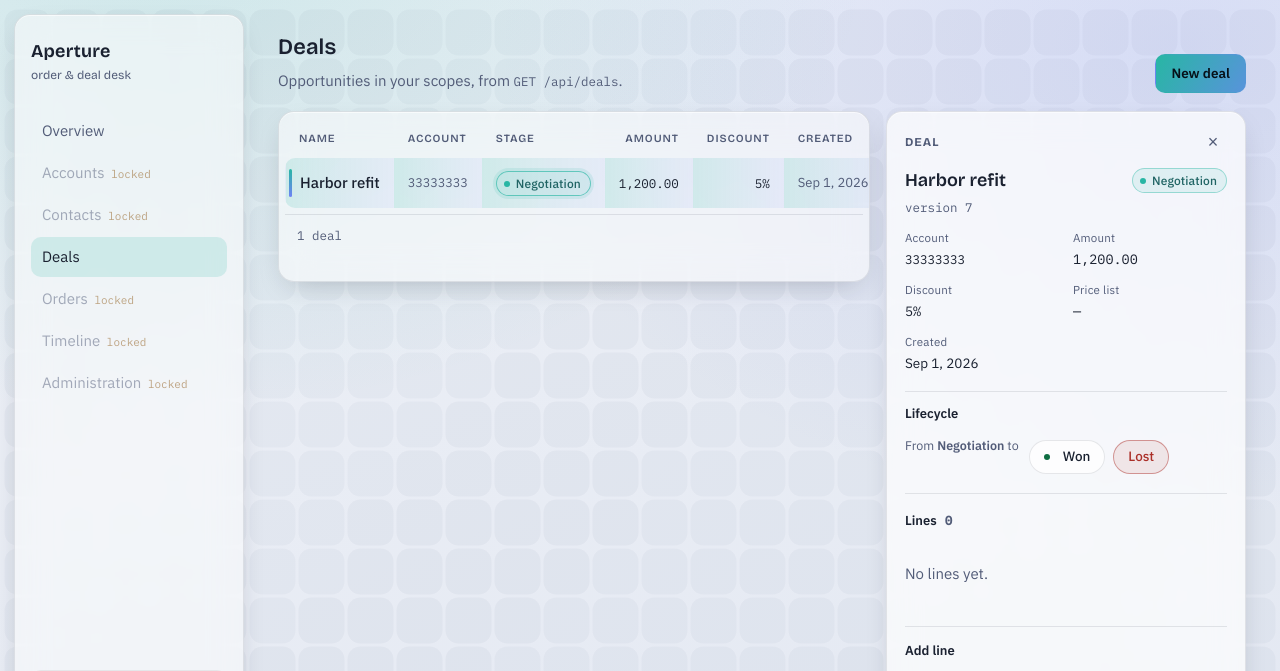
Test: Deal lifecycle — the server is the authority › Given a negotiation deal, when lost is sent with a reason code, then the lost deal and its reason are rendered
Click the button "Lost": (1141, 457) [1113,440,1169,474]
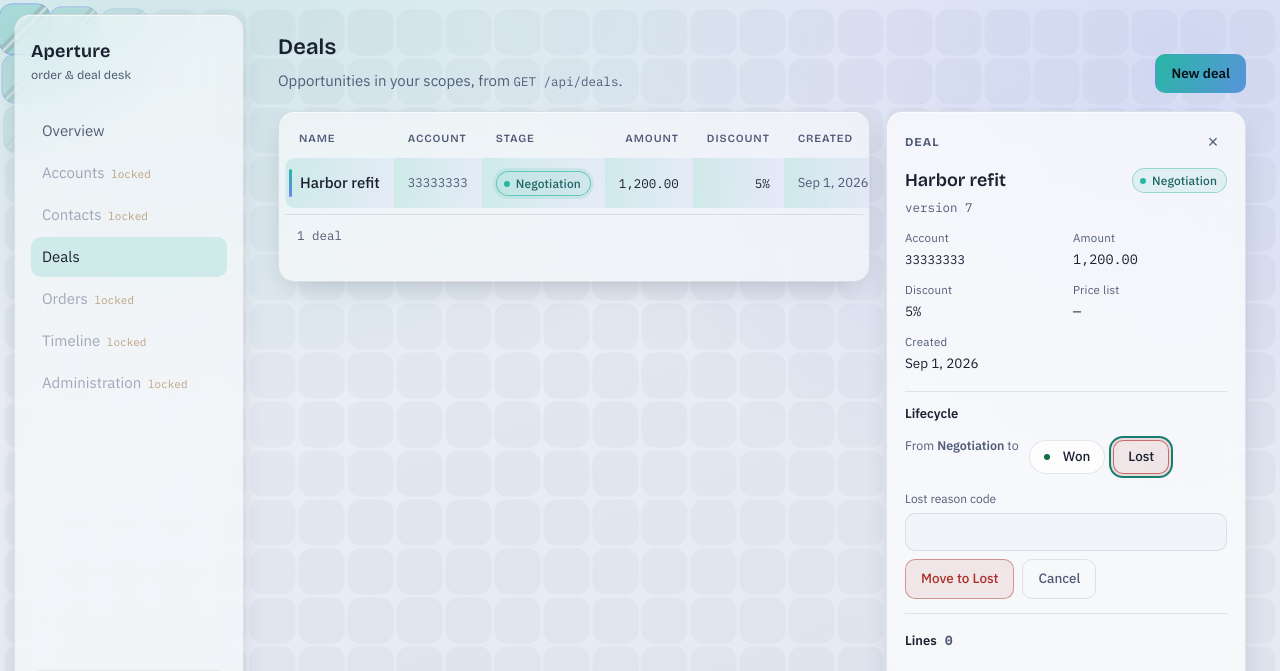
In the field labelled "Lost reason code": (1066, 532) [905,513,1227,551], type "competitor"
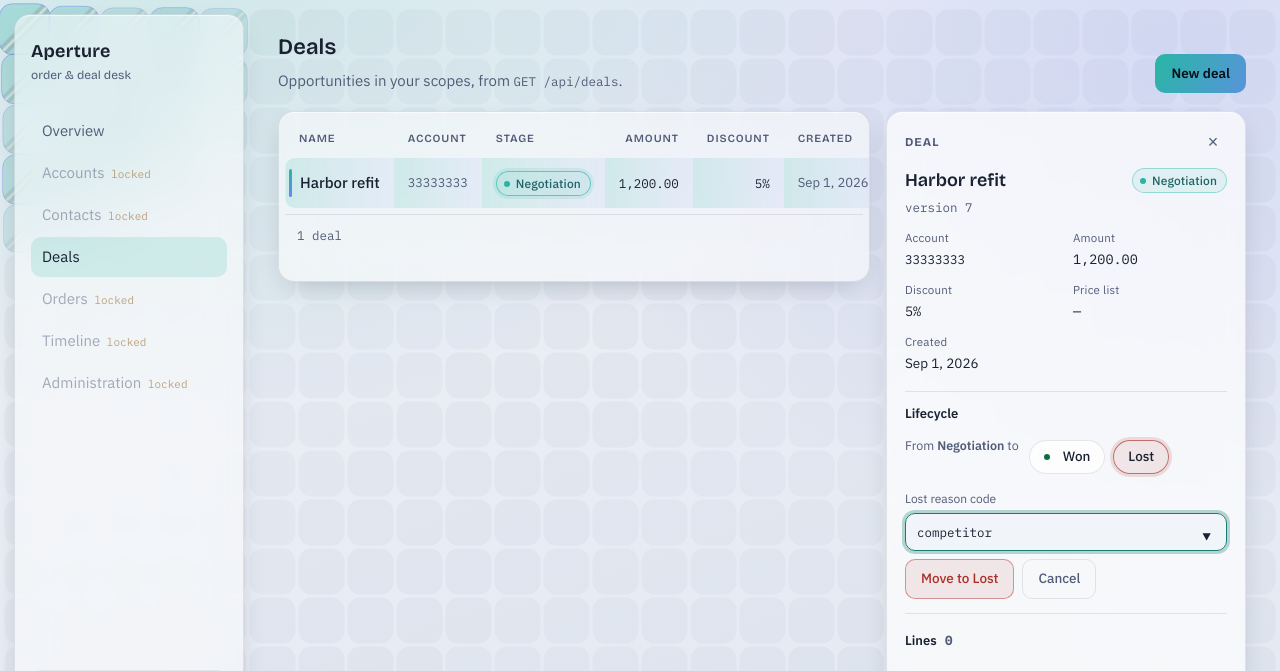
Click the button "Move to Lost": (960, 579) [905,559,1014,598]
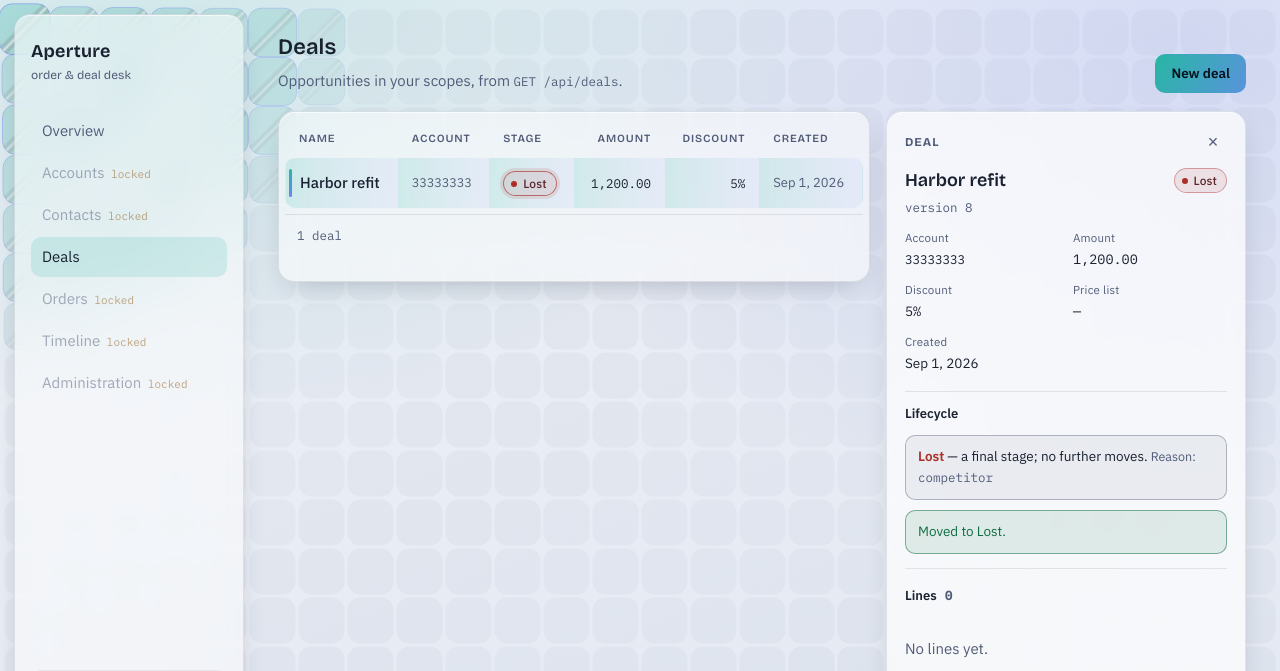
Expected: the element with test id "terminal" shows "competitor", [918,469,993,485]
